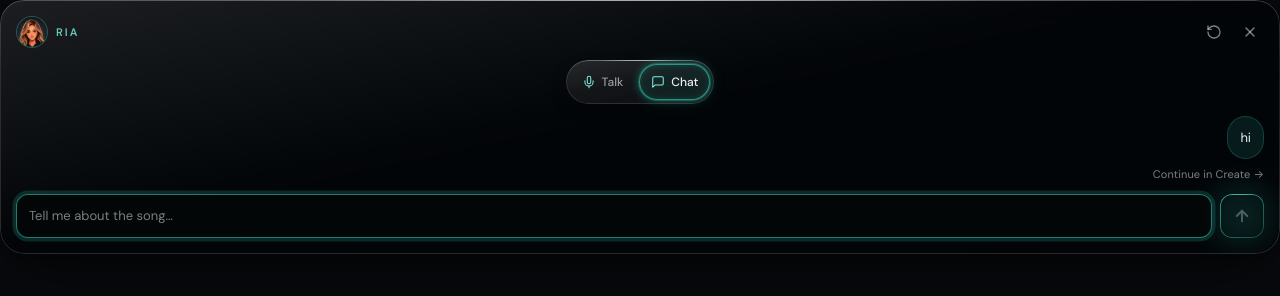
Test: ChatPanel › offers Start over rather than a retry when the session is full
Type "hello" into the text box named "Message the assistant". click: (614, 216)
box: [16, 194, 1212, 238]
Then press Enter
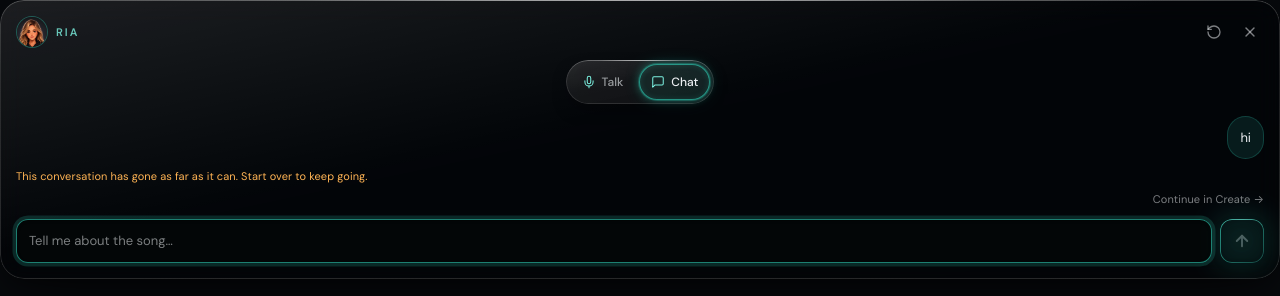
Expected: the button named "Start over" is enabled, [1200, 18, 1228, 46]
Expected: the text "This conversation has gone as far as it can. Start over to keep going." is shown, [16, 169, 368, 183]
